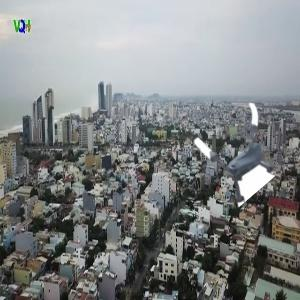drone: (200, 106, 286, 192)
